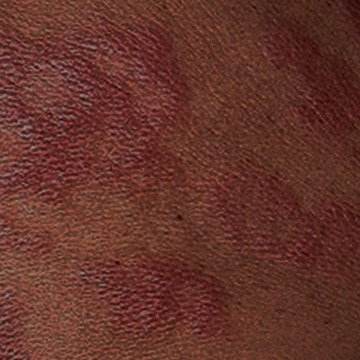Leprosy: (1, 27, 198, 198), (75, 241, 249, 346), (209, 156, 338, 276)
